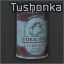Large can of beef stew: (0, 0, 64, 64)
